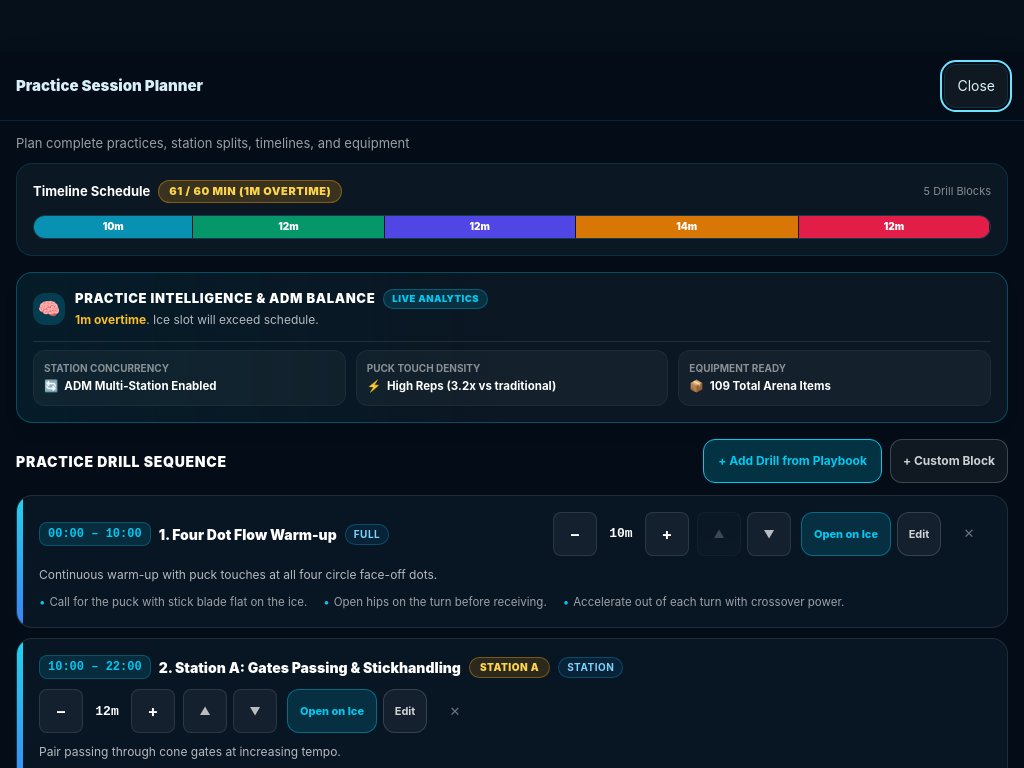
Test: PracticePage › renders drill picker modal with playbook templates and personal drill tabs
This screenshot has width=1024, height=768.
(page scrolled)
Step 1. Click the button "+ Add Drill from Playbook" → (793, 461), box x1=703 y1=439 x2=882 y2=483
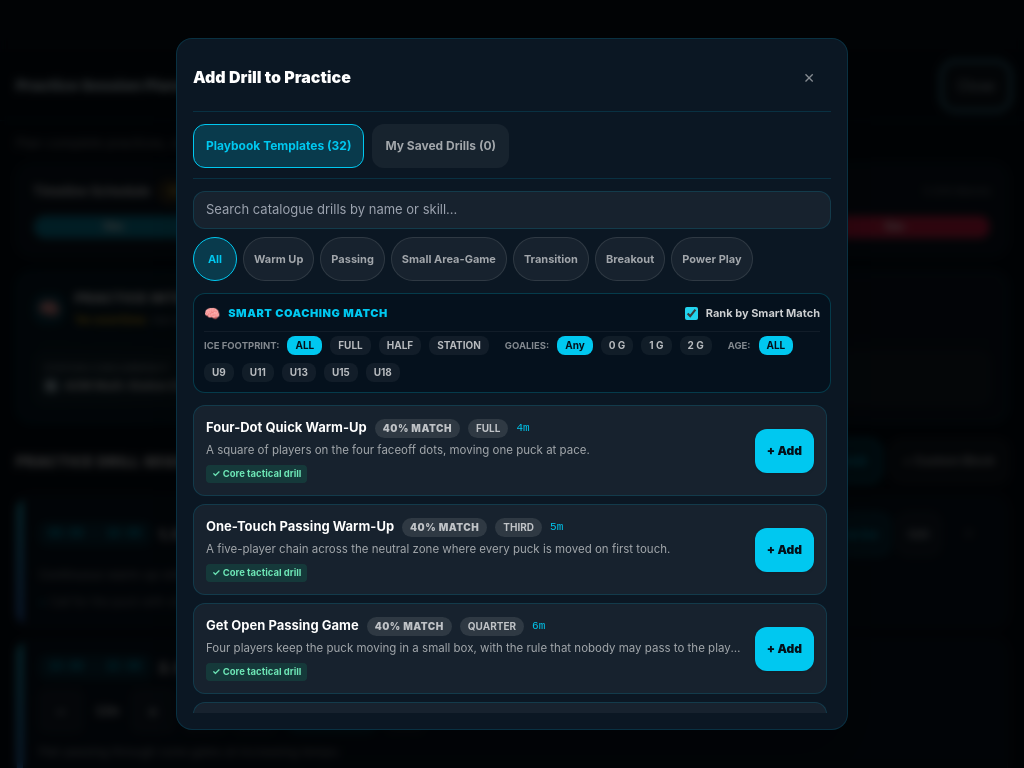
Expected: the heading "Add Drill to Practice" is shown, x1=193 y1=65 x2=351 y2=89
Expected: the button "Playbook Templates (32)" is shown, x1=193 y1=124 x2=364 y2=168
Expected: the button "My Saved Drills (0)" is shown, x1=372 y1=124 x2=509 y2=168
